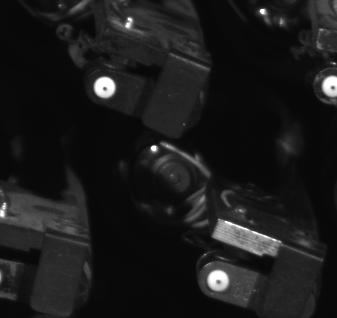fiber: (89, 73, 122, 102), (204, 266, 235, 296), (320, 73, 337, 99)
